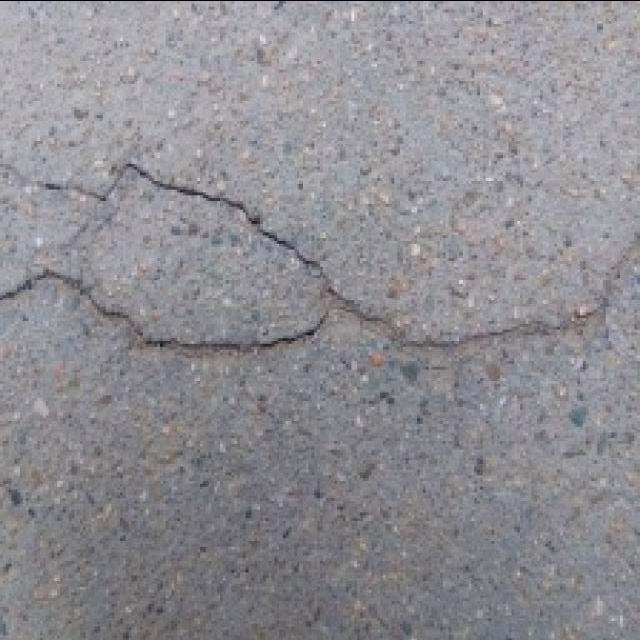SurfaceCrack: (0, 142, 636, 384)
